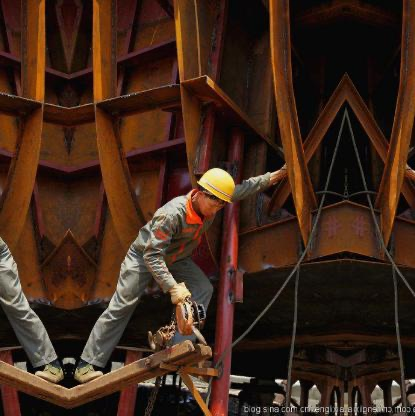Safety Helmet: (190, 164, 244, 224)
